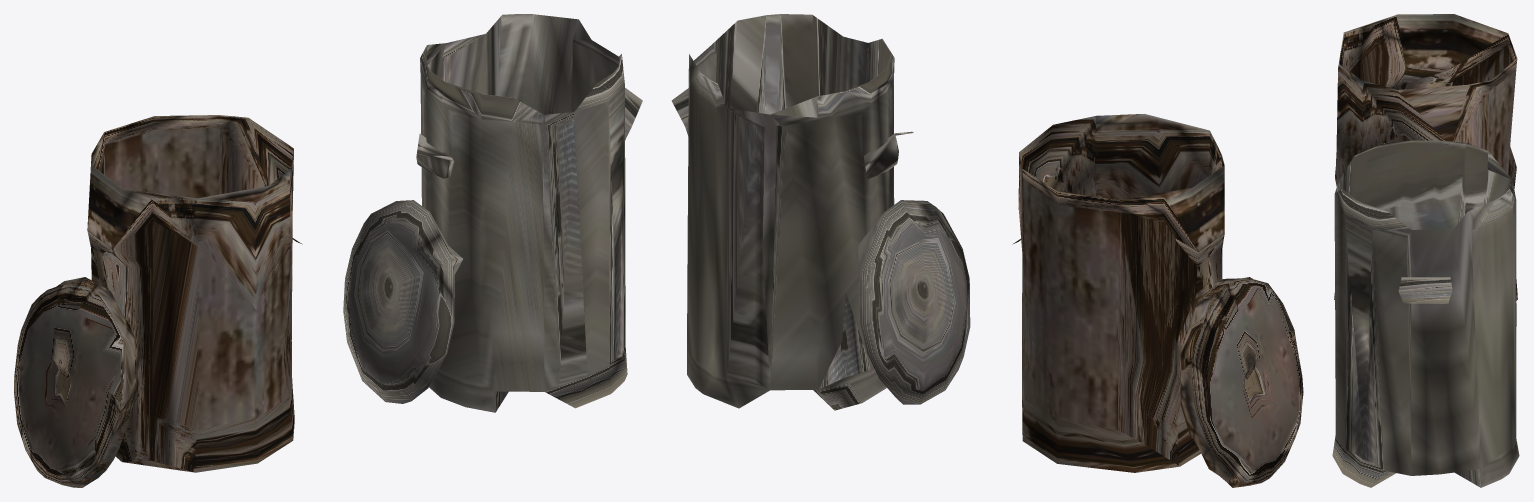
The model's file is bin.glb.
The picture shows the model from 3 angles, left to right: view 1: azimuth 30°, elevation 25°; view 2: azimuth 150°, elevation 25°; view 3: azimuth 270°, elevation 25°; orthographic projection. The views are drawn at different scales.
Visible parts, largest first — view 1: metal_trash_can_handle_left, metal_trash_can_rust, metal_trash_can_rust_handle_left; view 2: metal_trash_can_handle_left, metal_trash_can_rust, metal_trash_can_rust_handle_left; view 3: metal_trash_can_handle_left, metal_trash_can_rust, metal_trash_can_rust_handle_left.
Part boxes in pixels (bbox=[...]): metal_trash_can_handle_left: bbox=[343, 14, 642, 412]; metal_trash_can_rust: bbox=[87, 115, 294, 472]; metal_trash_can_rust_handle_left: bbox=[14, 238, 302, 487]; metal_trash_can_handle_left: bbox=[671, 14, 970, 410]; metal_trash_can_rust: bbox=[1018, 114, 1224, 472]; metal_trash_can_rust_handle_left: bbox=[1012, 239, 1303, 487]; metal_trash_can_handle_left: bbox=[1332, 140, 1519, 487]; metal_trash_can_rust: bbox=[1334, 14, 1517, 300]; metal_trash_can_rust_handle_left: bbox=[1335, 146, 1516, 188].
Bounding box in the file's own units: 1.77 × 0.9062 × 0.5514.
Materials: 2 (2 with a texture image).
